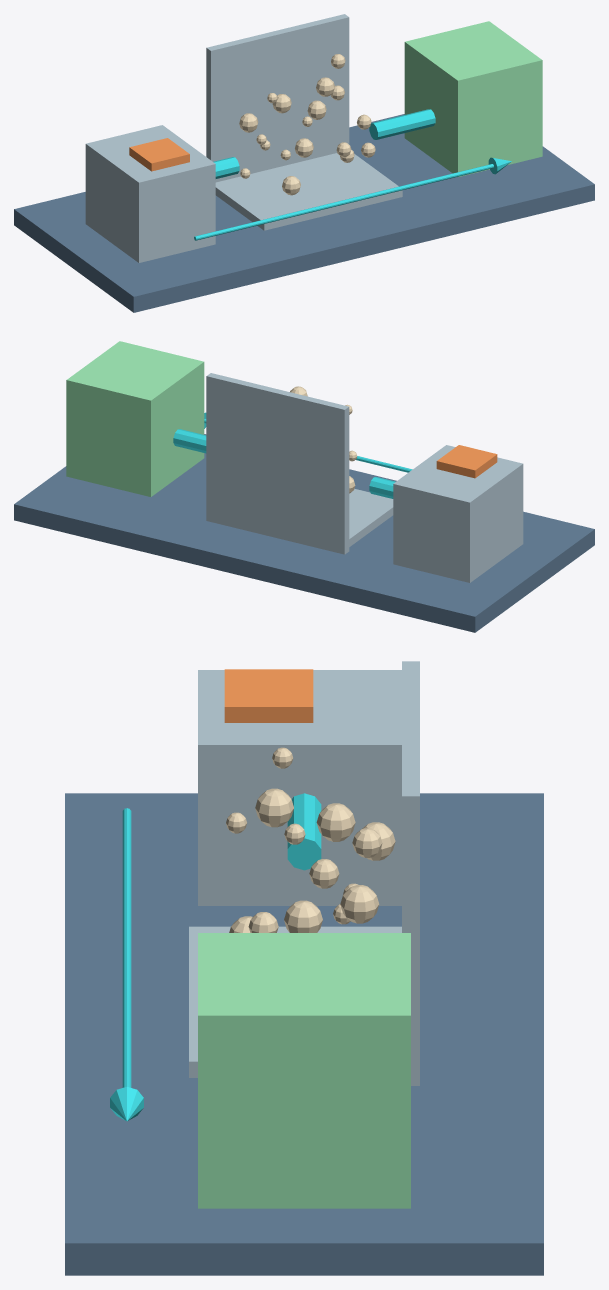
The model's file is aging_chamber.glb.
3 renders of one model, top to bottom at view 1: azimuth 30°, elevation 25°; view 2: azimuth 150°, elevation 25°; view 3: azimuth 270°, elevation 25°, orthographic. The views are drawn at different scales.
Visible parts, largest first — view 1: Experiment support, Aging chamber cutaway, Diagnostics block, Heated sample chamber, Aging chamber floor, Ventilation guide — conceptual.004, Sample, Transfer tube.001, Transfer tube; view 2: Experiment support, Aging chamber cutaway, Diagnostics block, Heated sample chamber, Aging chamber floor, Sample, Transfer tube.001, Transfer tube; view 3: Experiment support, Diagnostics block, Heated sample chamber, Aging chamber cutaway, Sample, Ventilation guide — conceptual.004, Aging chamber floor, Transfer tube, Illustrative aged aerosol.014, Illustrative aged aerosol.008, Illustrative aged aerosol.017, Illustrative aged aerosol.011 (+1 smaller).
Part boxes in pixels (x1=…): Experiment support: x1=14, y1=114, x2=594, y2=312; Aging chamber cutaway: x1=206, y1=14, x2=349, y2=182; Diagnostics block: x1=404, y1=21, x2=542, y2=176; Heated sample chamber: x1=85, y1=125, x2=215, y2=262; Aging chamber floor: x1=215, y1=153, x2=402, y2=230; Ventilation guide — conceptual.004: x1=194, y1=164, x2=493, y2=240; Sample: x1=129, y1=138, x2=189, y2=171; Transfer tube.001: x1=369, y1=109, x2=435, y2=139; Transfer tube: x1=213, y1=157, x2=239, y2=178; Experiment support: x1=14, y1=434, x2=594, y2=632; Aging chamber cutaway: x1=206, y1=373, x2=349, y2=554; Diagnostics block: x1=66, y1=341, x2=204, y2=496; Heated sample chamber: x1=393, y1=445, x2=523, y2=582; Aging chamber floor: x1=346, y1=488, x2=393, y2=549; Sample: x1=436, y1=445, x2=497, y2=478; Transfer tube.001: x1=173, y1=429, x2=206, y2=453; Transfer tube: x1=369, y1=477, x2=395, y2=498; Experiment support: x1=65, y1=793, x2=543, y2=1275; Diagnostics block: x1=198, y1=933, x2=410, y2=1208; Heated sample chamber: x1=198, y1=670, x2=401, y2=905; Aging chamber cutaway: x1=402, y1=661, x2=419, y2=1085; Sample: x1=224, y1=669, x2=313, y2=722; Ventilation guide — conceptual.004: x1=122, y1=808, x2=131, y2=1087; Aging chamber floor: x1=189, y1=926, x2=419, y2=1077; Transfer tube: x1=287, y1=793, x2=321, y2=870; Illustrative aged aerosol.014: x1=255, y1=788, x2=293, y2=827; Illustrative aged aerosol.008: x1=316, y1=803, x2=355, y2=841; Illustrative aged aerosol.017: x1=340, y1=885, x2=379, y2=923; Illustrative aged aerosol.011: x1=284, y1=900, x2=322, y2=932.
Size of the model in its own units: 6 by 2 by 2.7.
